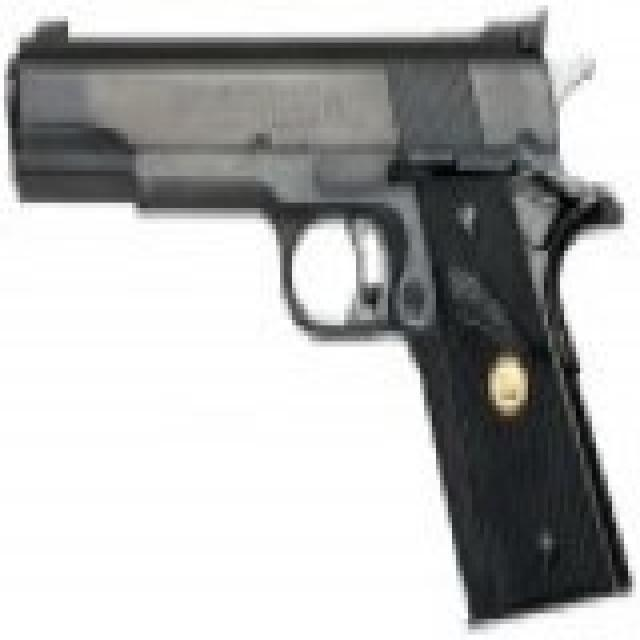Gun: (11, 19, 622, 599)
